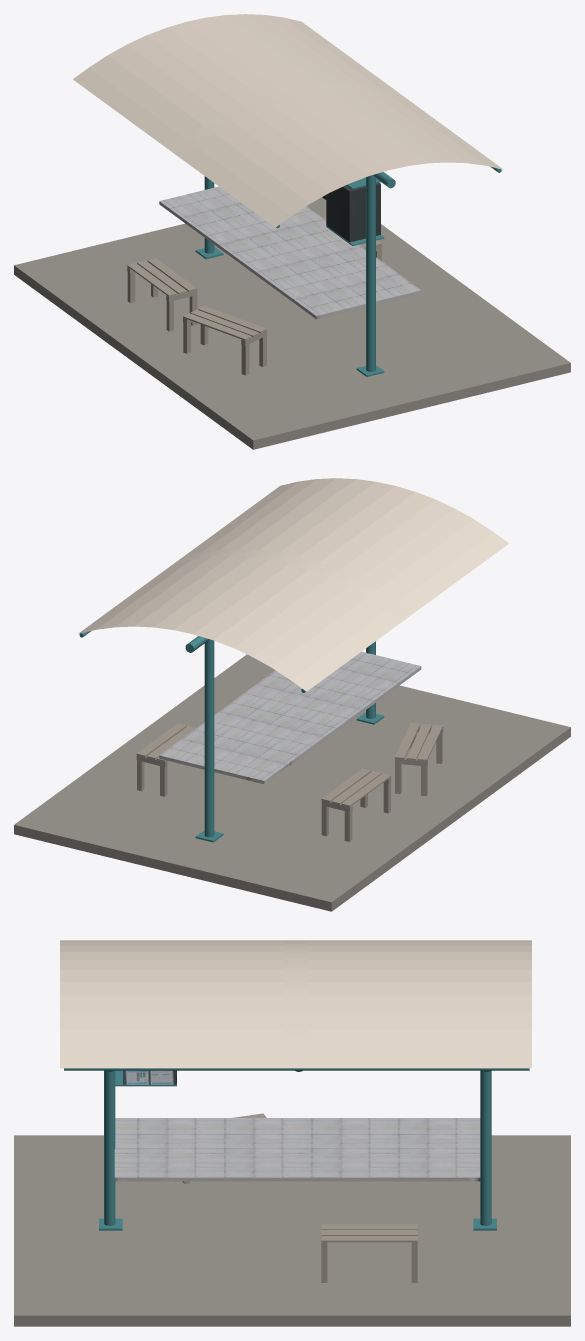
Rendered from payung.fbx.
The picture shows the model from 3 angles, top to bottom: view 1: azimuth 30°, elevation 25°; view 2: azimuth 150°, elevation 25°; view 3: azimuth 270°, elevation 25°; orthographic projection. The views are drawn at different scales.
Parts seen in each view (by area): view 1: pCube4, pPlane1, pCube1, pCylinder9, pCube18, pCube19, pCube5; view 2: pCube4, pPlane1, pCube1, pCylinder9, pCube19, pCube18, pCube20; view 3: pCube4, pPlane1, pCube1, pCylinder9, pCube20, pCube5.
Part boxes in pixels (left/top/right/bottom): pCube4: left=14, top=197, right=570, bottom=449; pPlane1: left=73, top=14, right=503, bottom=227; pCube1: left=159, top=186, right=421, bottom=319; pCylinder9: left=195, top=167, right=501, bottom=376; pCube18: left=183, top=306, right=266, bottom=375; pCube19: left=127, top=258, right=197, bottom=331; pCube5: left=326, top=183, right=380, bottom=242; pCube4: left=14, top=654, right=570, bottom=911; pPlane1: left=78, top=478, right=508, bottom=691; pCube1: left=159, top=651, right=421, bottom=784; pCylinder9: left=79, top=631, right=384, bottom=842; pCube19: left=321, top=768, right=391, bottom=841; pCube18: left=394, top=722, right=443, bottom=795; pCube20: left=136, top=723, right=195, bottom=796; pCube4: left=14, top=1135, right=570, bottom=1326; pPlane1: left=60, top=940, right=531, bottom=1068; pCube1: left=114, top=1118, right=480, bottom=1181; pCylinder9: left=64, top=1068, right=529, bottom=1230; pCube20: left=321, top=1224, right=417, bottom=1282; pCube5: left=123, top=1070, right=176, bottom=1084.
Size of the model in its own units: 18.08 by 12.36 by 23.59.
7 materials, 3 textured.
